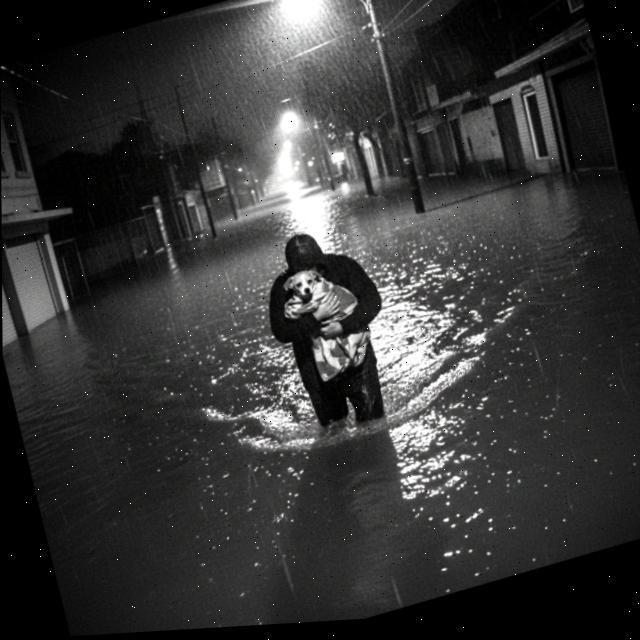civilian: (249, 203, 414, 452)
dog: (279, 250, 377, 371)
